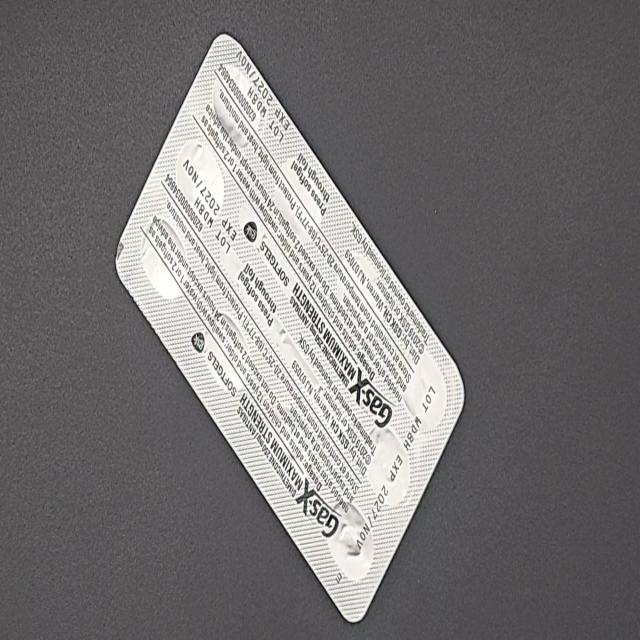no defect: (16, 14, 34, 52)
